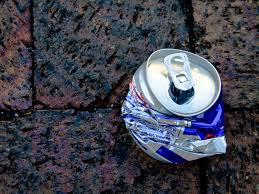can: (123, 35, 232, 173)
